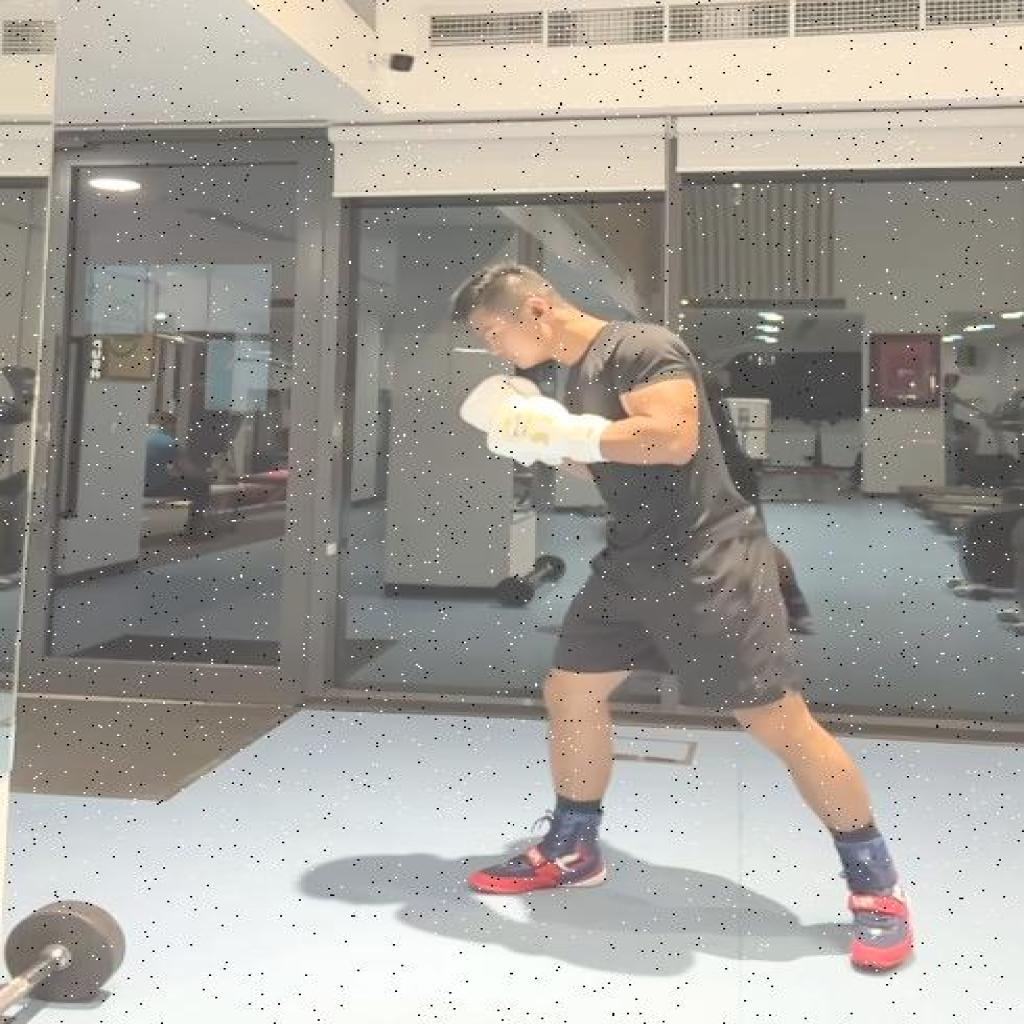no punch: (452, 266, 918, 974)
